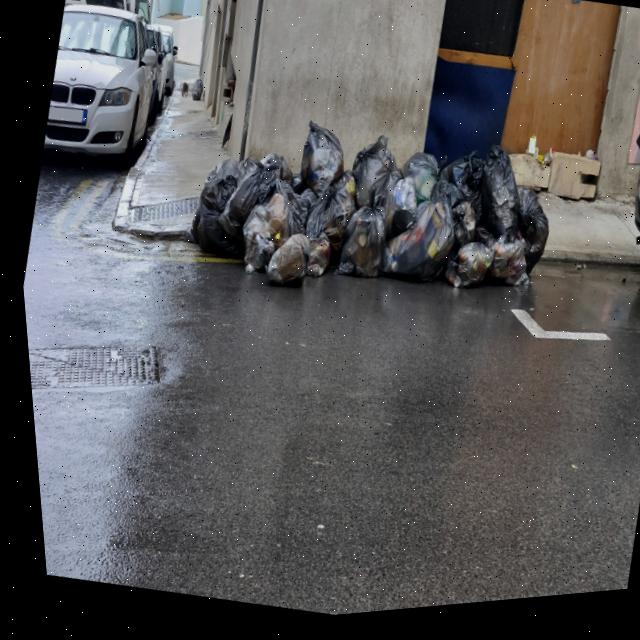Mixed Waste -Black Bag-: (371, 181, 465, 298), (290, 167, 364, 280), (226, 182, 302, 288), (462, 148, 533, 257), (325, 186, 397, 290), (207, 154, 283, 251), (174, 153, 244, 257), (183, 171, 257, 269), (424, 149, 493, 241), (338, 133, 408, 222), (494, 195, 556, 291), (288, 121, 354, 211), (470, 232, 536, 307), (371, 173, 425, 254), (260, 180, 321, 247), (391, 155, 449, 224), (255, 232, 312, 301), (435, 242, 495, 305), (436, 206, 479, 275), (250, 153, 296, 199), (297, 236, 331, 288), (539, 157, 552, 178)
Other: (189, 81, 205, 106), (522, 142, 536, 166), (581, 160, 592, 172), (533, 164, 543, 176), (530, 157, 538, 171), (590, 164, 596, 172), (548, 158, 552, 163)
